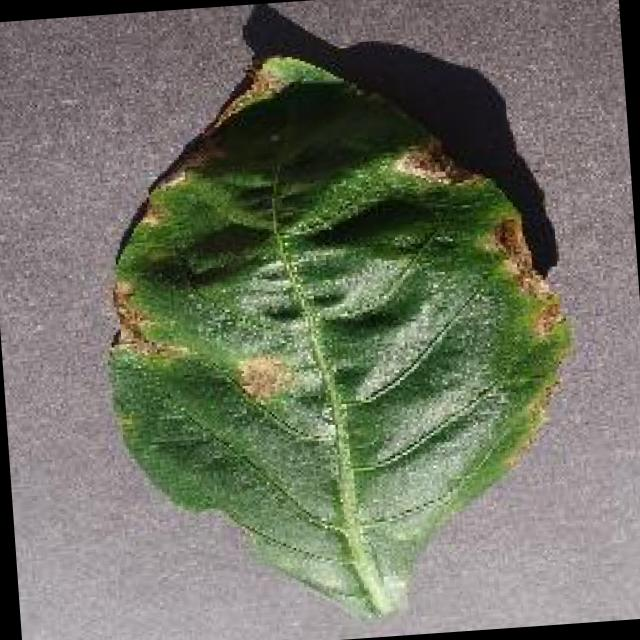Chilli_Bacterial_Spot: (82, 31, 590, 640), (394, 128, 566, 348), (486, 208, 567, 343), (104, 269, 190, 367), (233, 251, 310, 328), (393, 134, 476, 192), (230, 347, 298, 406), (526, 296, 566, 340), (488, 213, 526, 258)
